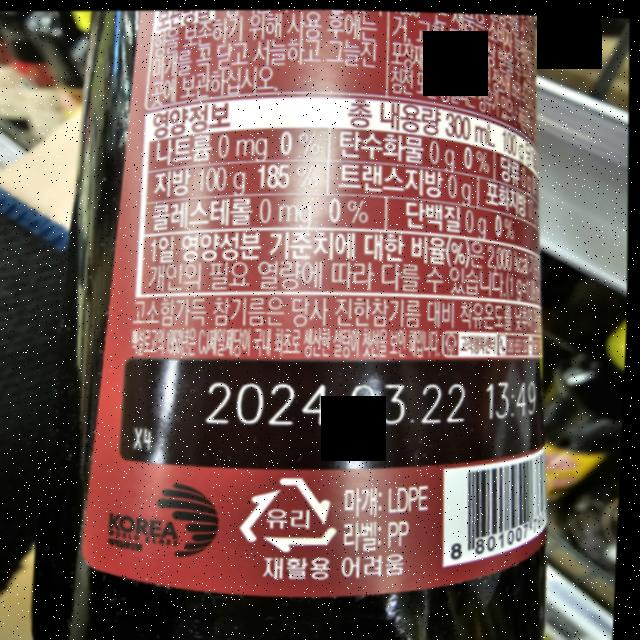Glass: (235, 468, 347, 553)
